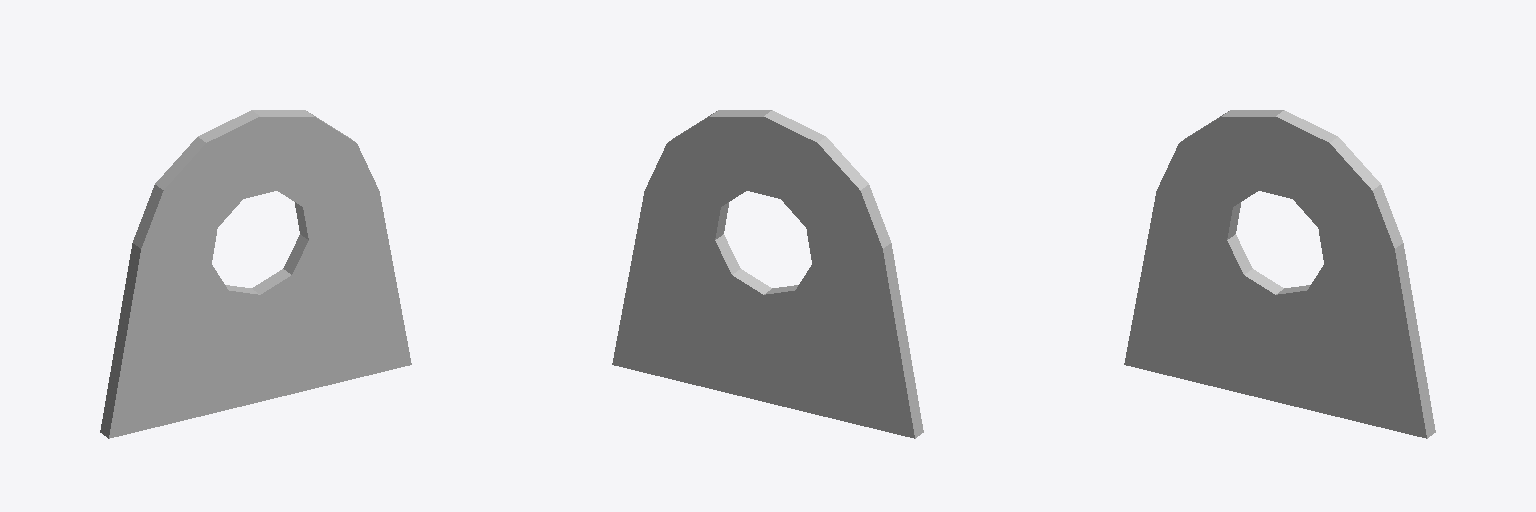
Rendered from 76. Стопор штуцера.obj.
The picture shows the model from 3 angles: view 1: azimuth 30°, elevation 25°; view 2: azimuth 150°, elevation 25°; view 3: azimuth 330°, elevation 25°; orthographic projection.
Visible parts, largest first — view 1: Твердое тело1; view 2: Твердое тело1; view 3: Твердое тело1.
Boxes of the visible parts, <box> form: Твердое тело1: <box>100,110,411,438</box>; Твердое тело1: <box>612,110,923,438</box>; Твердое тело1: <box>1124,110,1435,438</box>.
Bounding box in the file's own units: 20 × 18 × 1.